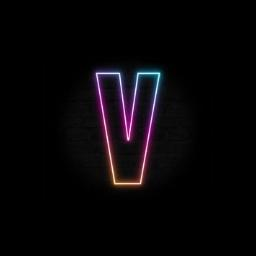v: (92, 67, 176, 193)
